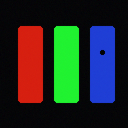0 point: (100, 50, 104, 54)
